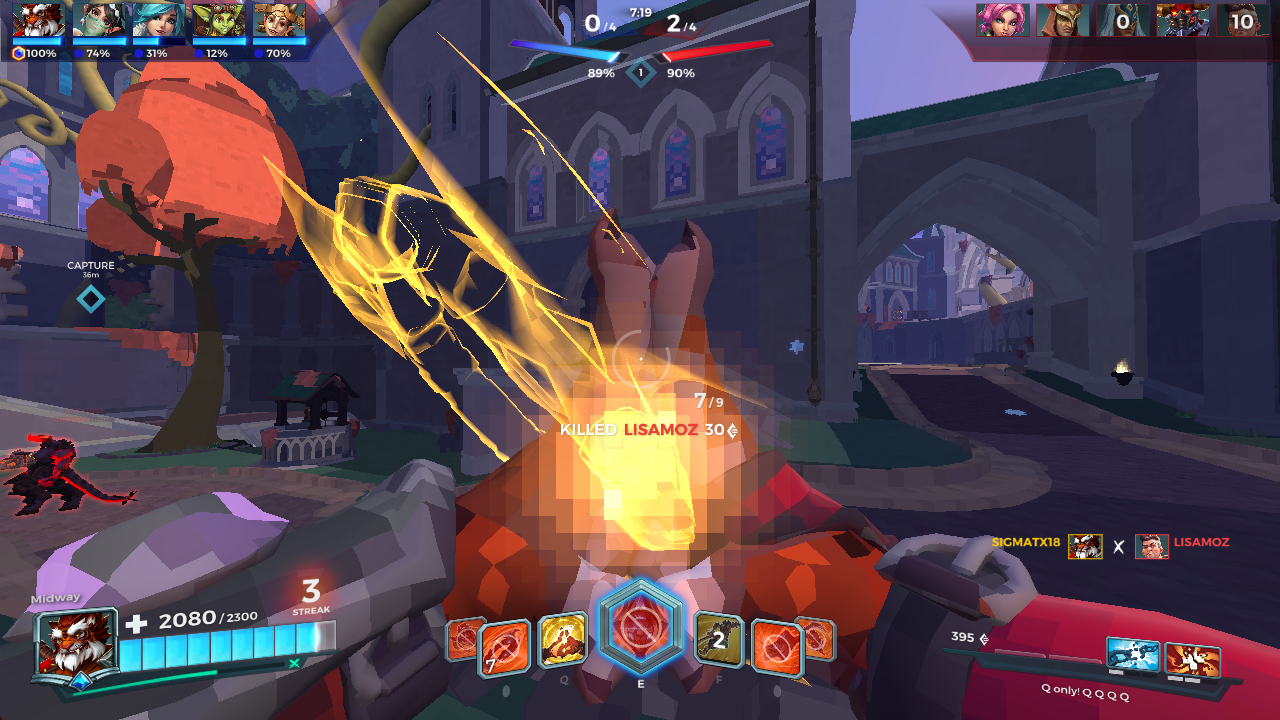model: (1, 436, 109, 516)
